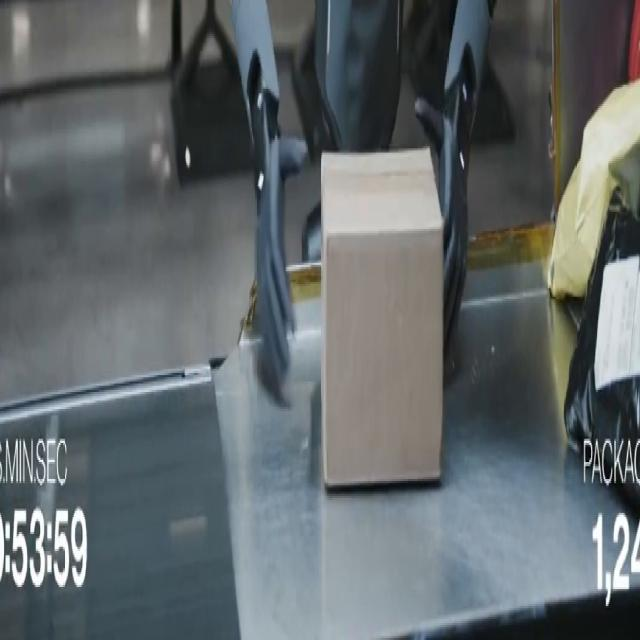package: (321, 151, 443, 487), (564, 189, 639, 506), (548, 83, 639, 298), (629, 0, 639, 82)
